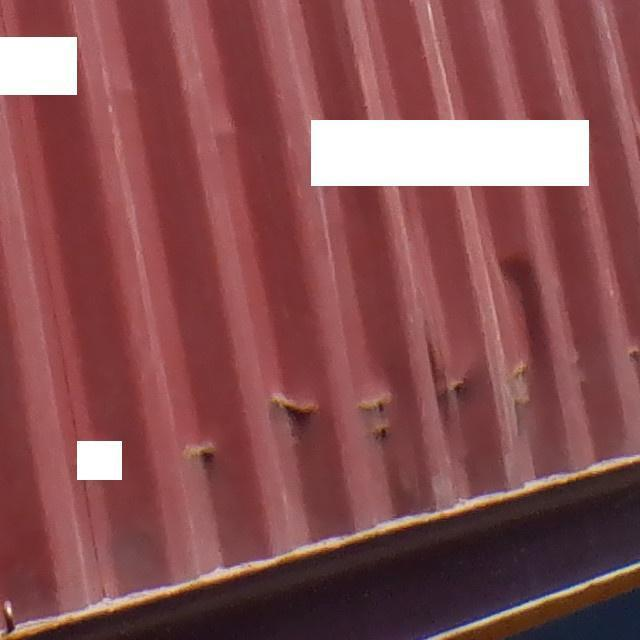dent: (159, 355, 579, 465)
